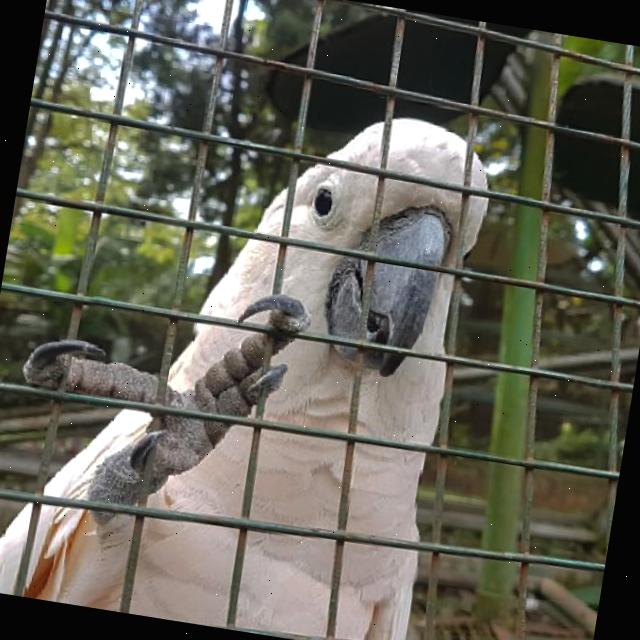Kakatua Putih: (0, 15, 542, 640)
